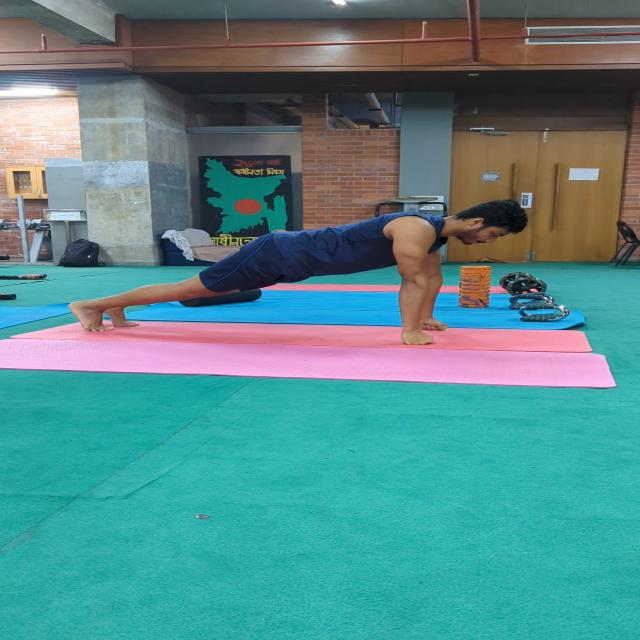Normal_PushUps: (65, 198, 551, 348)
